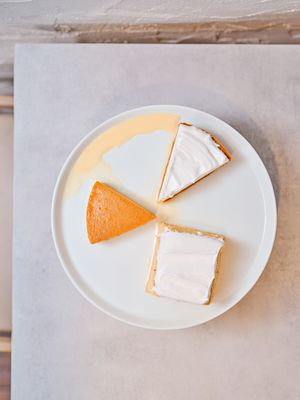curry: (9, 38, 299, 362)
sushi: (157, 121, 232, 203)
